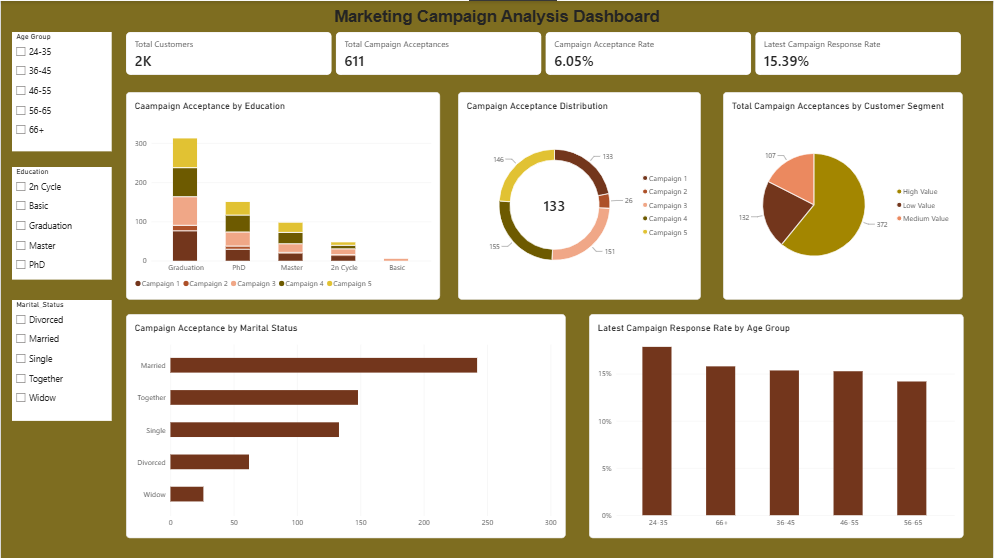

What the dashboard file says about the page in this screenshot:
{"tool":"powerbi","page":{"name":"Marketing Campaign Performance","canvas":[1920,1080],"ordinal":2},"visuals":[{"type":"cardVisual","fields":{"Data":["Marketing.Total Customers","Marketing.Total Campaign Acceptances","Marketing.Campaign Acceptance Rate","Marketing.Latest Campaign Response Rate"]},"box":[242.6,60.7,1619.7,83.6],"z":0},{"type":"donutChart","title":"Campaign Acceptance Distribution","fields":{"Y":["Marketing.Campaign 1","Marketing.Campaign 2","Marketing.Campaign 3","Marketing.Campaign 4","Marketing.Campaign 5"]},"box":[885.2,177,470.5,401.6],"z":1},{"type":"columnChart","title":"Caampaign Acceptance by Education","fields":{"Category":["Marketing.Education"],"Y":["Marketing.Campaign 1","Marketing.Campaign 2","Marketing.Campaign 3","Marketing.Campaign 4","Marketing.Campaign 5"]},"box":[242.6,177,608.2,401.6],"z":2},{"type":"clusteredBarChart","title":"Campaign Acceptance by Marital Status","fields":{"Category":["Marketing.Marital_Status"],"Y":["Marketing.Total Campaign Acceptances"]},"box":[242.6,604.9,850.8,434.4],"z":3},{"type":"columnChart","fields":{"Category":["Marketing.Age Group"],"Y":["Marketing.Latest Campaign Response Rate"]},"box":[1137.7,604.9,724.6,434.4],"z":4},{"type":"pieChart","title":"Total Campaign Acceptances by Customer Segment","fields":{"Category":["Marketing.Customer Segment"],"Y":["Marketing.Total Campaign Acceptances"]},"box":[1398.4,177,463.9,401.6],"z":5},{"type":"slicer","fields":{"Values":["Marketing.Age Group"]},"box":[21.3,60.7,193.4,231.1],"z":6},{"type":"slicer","fields":{"Values":["Marketing.Education"]},"box":[21.3,321.3,193.4,218],"z":7},{"type":"slicer","fields":{"Values":["Marketing.Marital_Status"]},"box":[21.3,578.7,193.4,234.4],"z":8},{"type":"textbox","box":[0,11.5,1919.7,49.2],"z":9}]}

Visuals, with their boxes in screenshot pixels (x1, y1, x2, y2), scaled from the page's 1920x1080 canvas onto the 994x558 screenshot:
cardVisual - Marketing.Total Customers x Marketing.Total Campaign Acceptances: <region>126, 31, 964, 75</region>
"Campaign Acceptance Distribution" donutChart: <region>458, 91, 702, 299</region>
"Caampaign Acceptance by Education" columnChart: <region>126, 91, 440, 299</region>
"Campaign Acceptance by Marital Status" clusteredBarChart: <region>126, 313, 566, 537</region>
columnChart - Marketing.Age Group x Marketing.Latest Campaign Response Rate: <region>589, 313, 964, 537</region>
"Total Campaign Acceptances by Customer Segment" pieChart: <region>724, 91, 964, 299</region>
slicer - Marketing.Age Group: <region>11, 31, 111, 151</region>
slicer - Marketing.Education: <region>11, 166, 111, 279</region>
slicer - Marketing.Marital_Status: <region>11, 299, 111, 420</region>
textbox: <region>0, 6, 993, 31</region>
